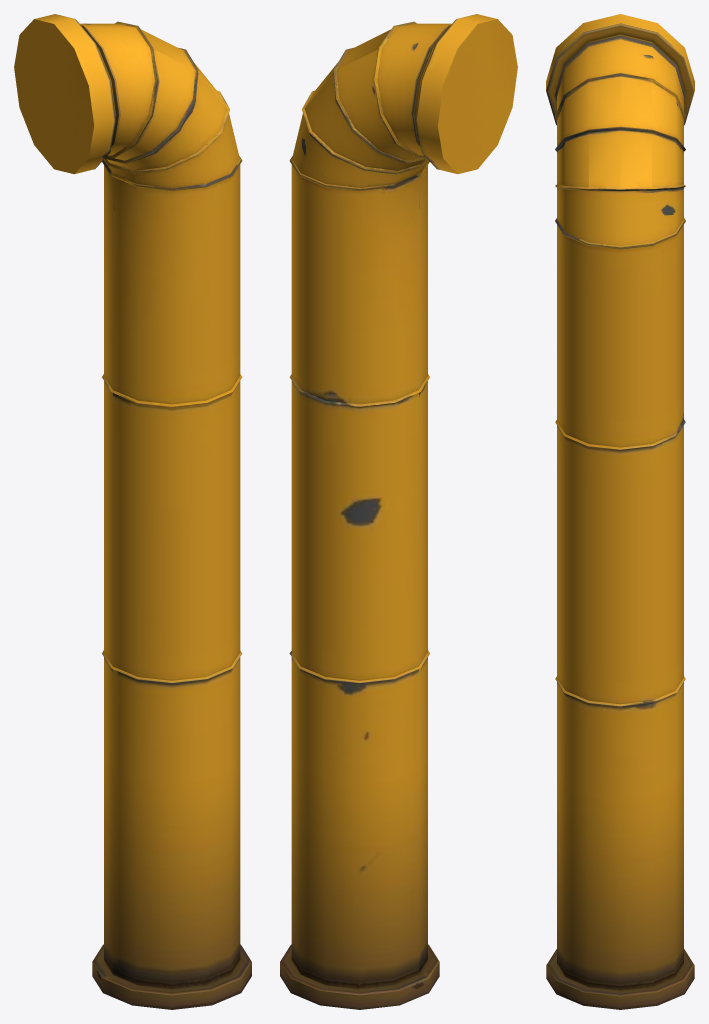
3 renders of one model, left to right at view 1: azimuth 30°, elevation 25°; view 2: azimuth 150°, elevation 25°; view 3: azimuth 270°, elevation 25°, orthographic. The views are drawn at different scales.
Parts seen in each view (by area): view 1: body0_model0_lod0_mesh0; view 2: body0_model0_lod0_mesh0; view 3: body0_model0_lod0_mesh0.
Part boxes in pixels (<box>): body0_model0_lod0_mesh0: <box>14,14,251,1009</box>; body0_model0_lod0_mesh0: <box>280,14,517,1009</box>; body0_model0_lod0_mesh0: <box>546,14,694,1009</box>.
Size of the model in its own units: 101 by 508 by 75.16.
1 material, 1 textured.
